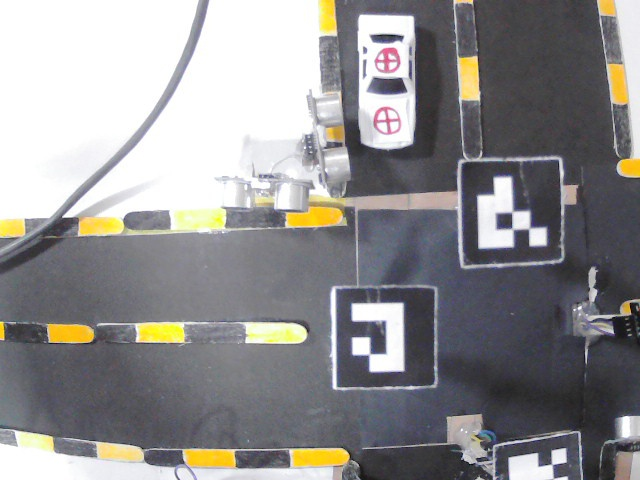aruco_marker: (456, 157, 564, 266), (330, 287, 438, 389), (489, 430, 585, 480)
emergency_vehicle: (353, 10, 419, 154)
uno_breadboard: (306, 91, 356, 187), (218, 171, 314, 215), (611, 413, 640, 451)
